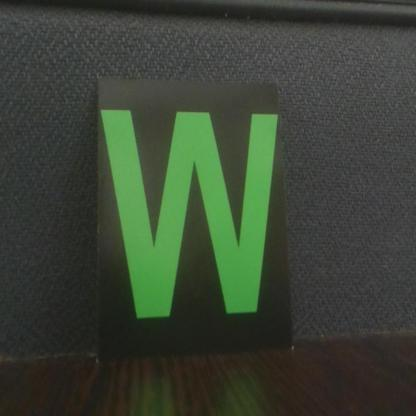w: (97, 76, 292, 348)
